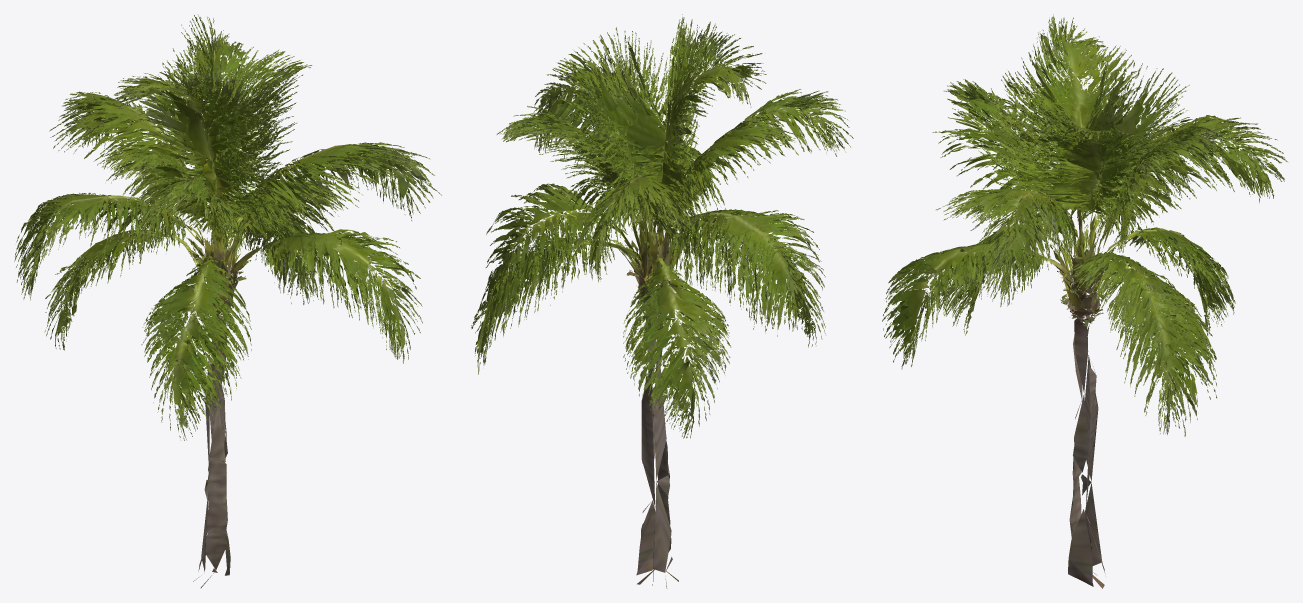
Rendered from palm-young.glb.
3 views of the same model, side by side, from view 1: azimuth 30°, elevation 25°; view 2: azimuth 150°, elevation 25°; view 3: azimuth 270°, elevation 25° (orthographic). The views are drawn at different scales.
Visible parts, largest first — view 1: Mesh_0; view 2: Mesh_0; view 3: Mesh_0.
Boxes of the visible parts, x1,y1,x2,y2 form: Mesh_0: [14, 15, 441, 588]; Mesh_0: [471, 14, 853, 588]; Mesh_0: [882, 14, 1288, 588].
Size of the model in its own units: 1.28 by 1.88 by 1.29.
1 material, 1 textured.
